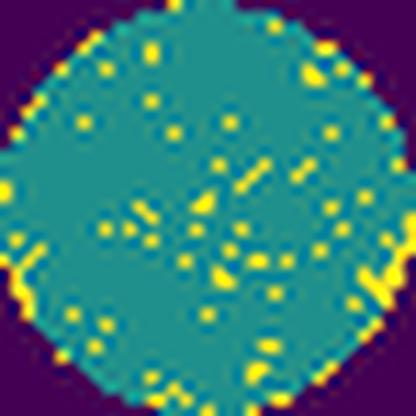Edge-Loc: (357, 209, 415, 308)
